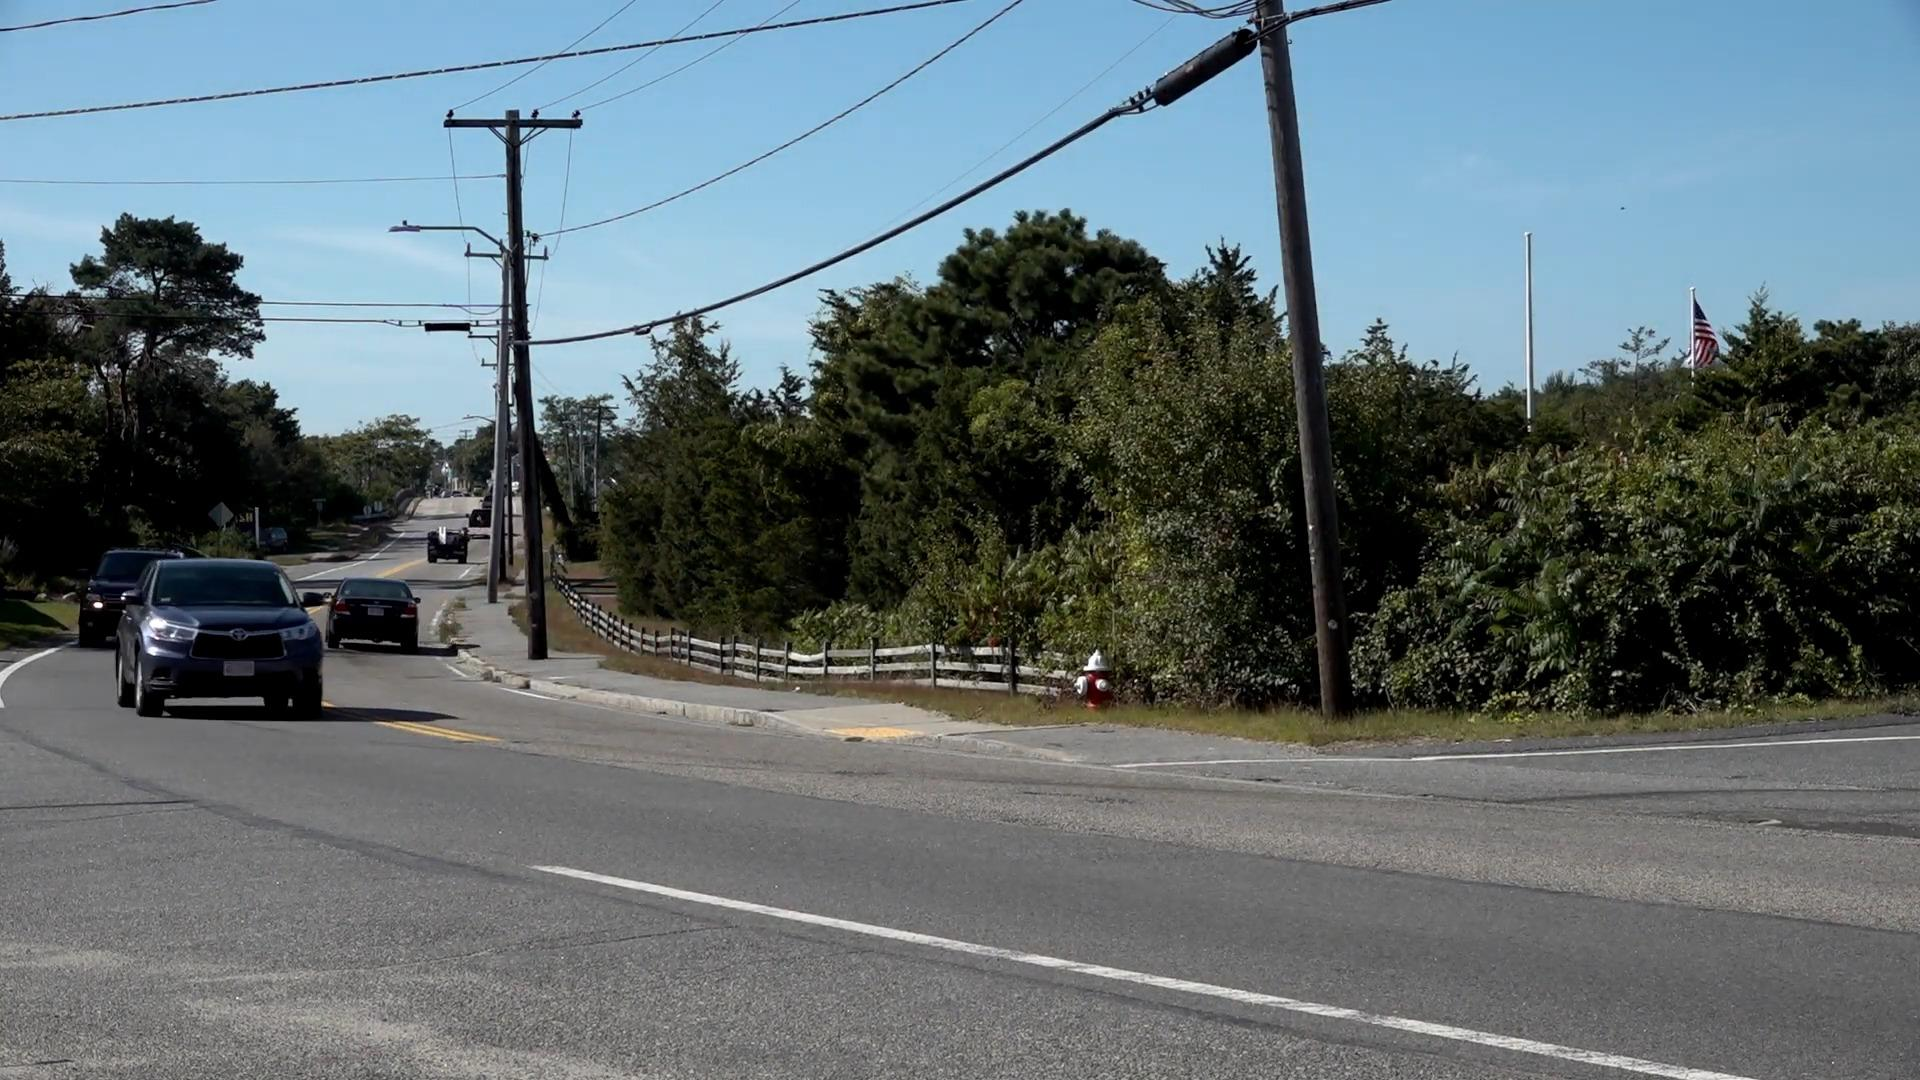sedans: (324, 572, 426, 658)
suv: (112, 553, 322, 719)
